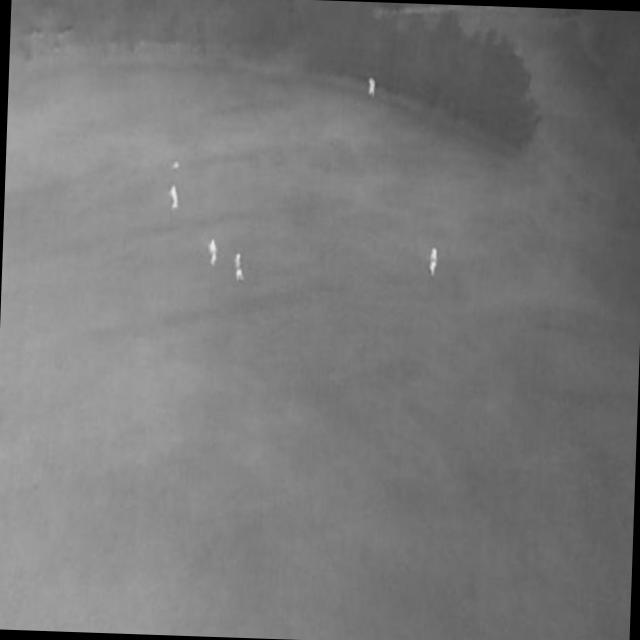person: (233, 253, 245, 283), (206, 239, 218, 267), (427, 247, 438, 276), (169, 186, 180, 212), (367, 77, 376, 100)
